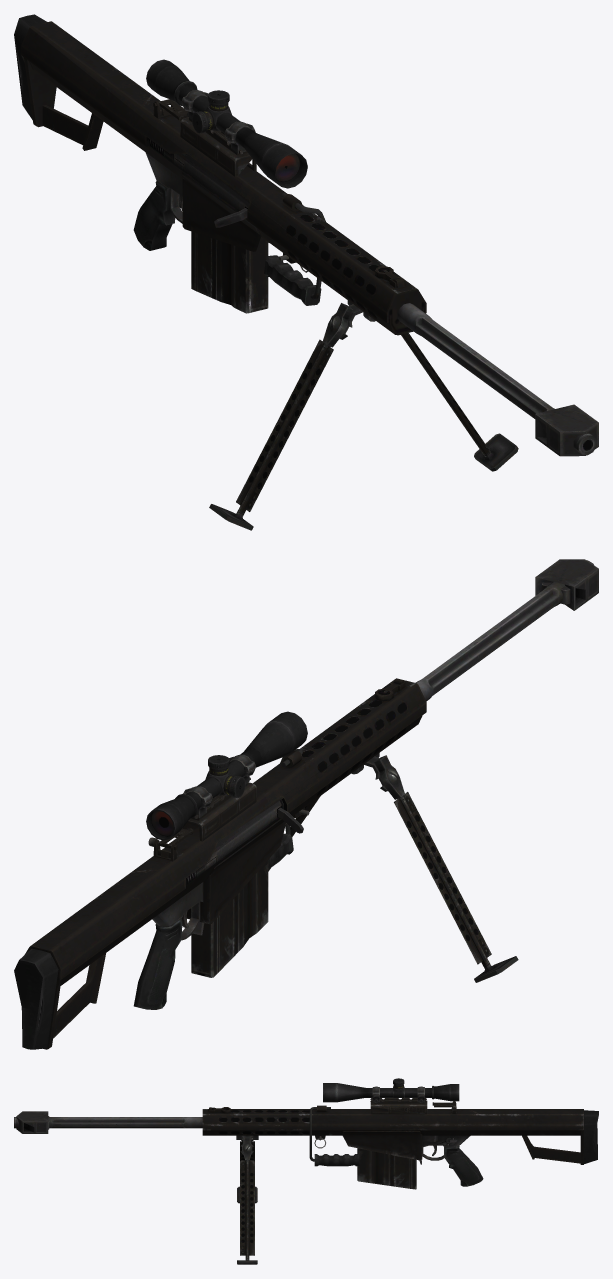
3 views of the same model, one above another, from view 1: azimuth 30°, elevation 25°; view 2: azimuth 150°, elevation 25°; view 3: azimuth 270°, elevation 25° (orthographic). The views are drawn at different scales.
Visible parts, largest first — view 1: M82A1; view 2: M82A1; view 3: M82A1.
Part boxes in pixels (x1=…): M82A1: x1=14, y1=14, x2=598, y2=530; M82A1: x1=14, y1=559, x2=598, y2=1049; M82A1: x1=14, y1=1078, x2=598, y2=1264.
Size of the model in its own units: 45.57 by 43.7 by 151.
